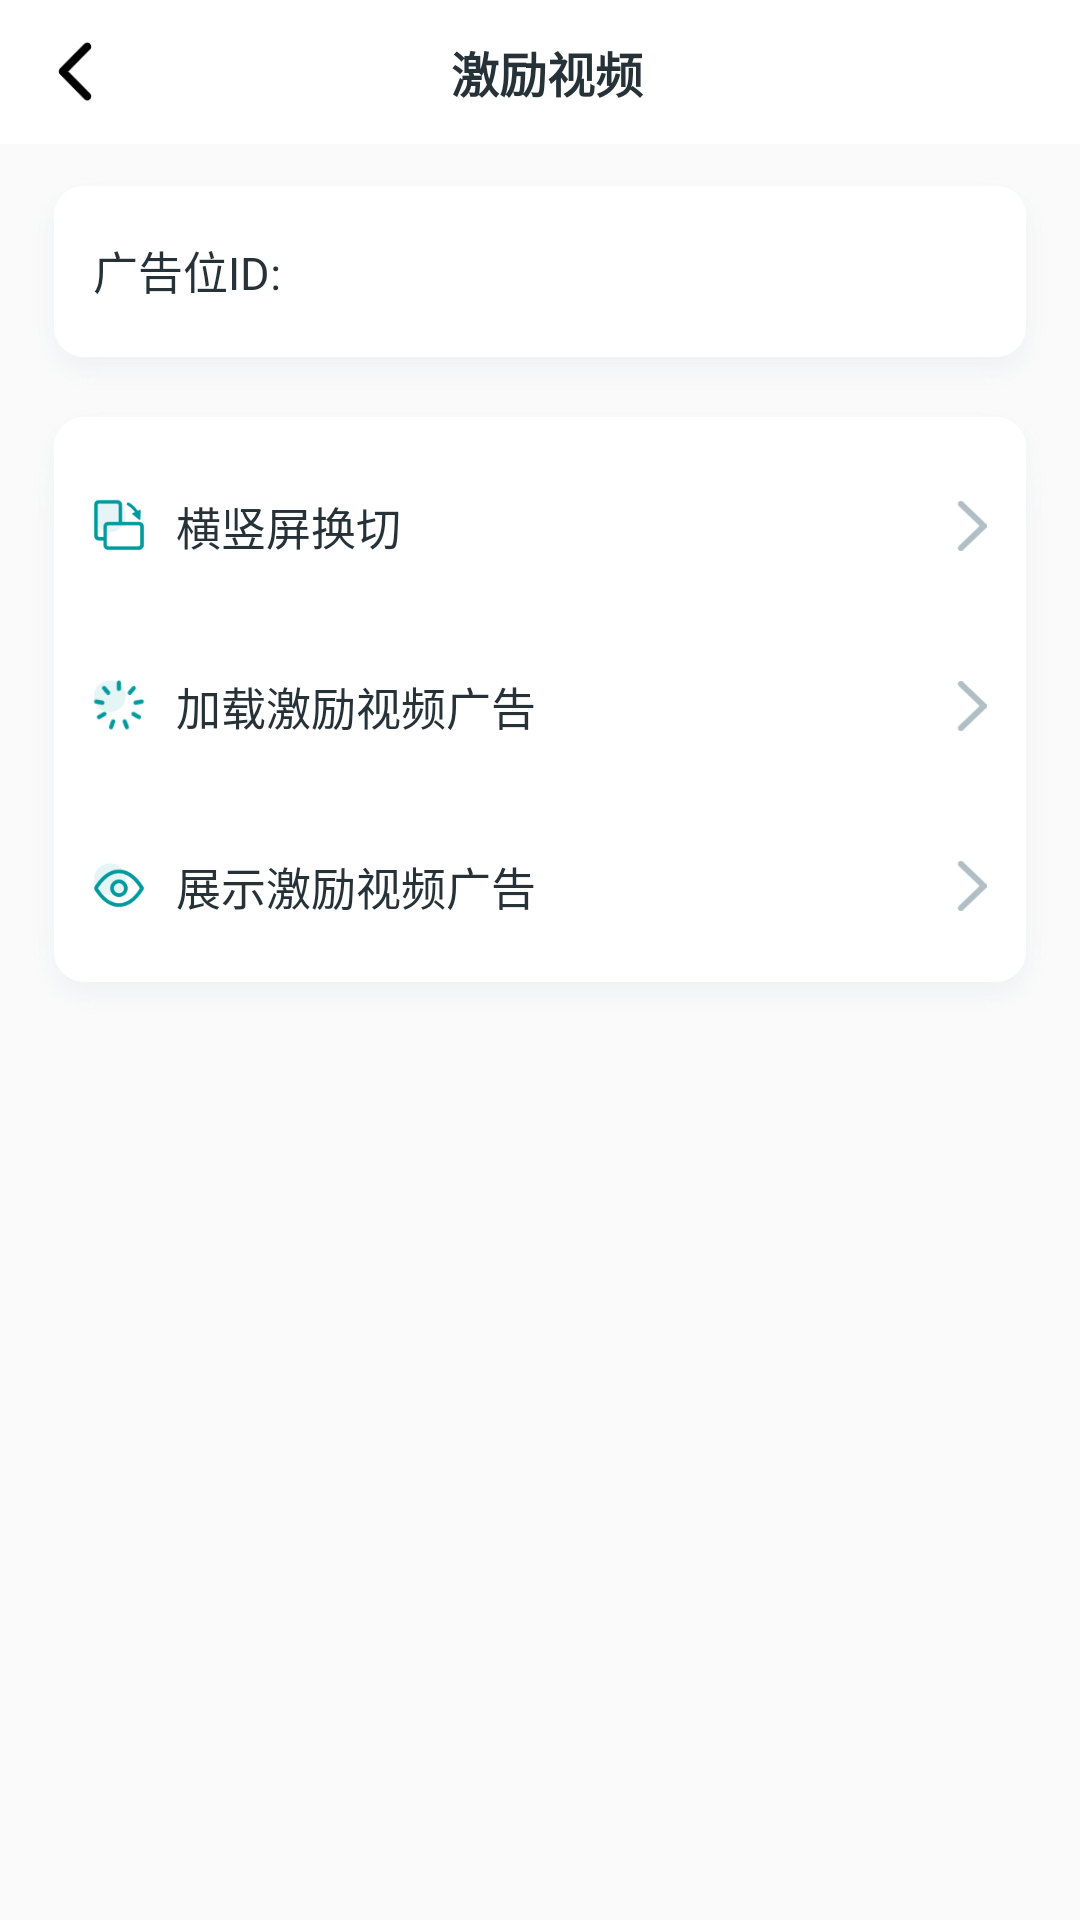

Point at icon controls on the screen. Image size 1080w x 1920h, points as (x=x, y=y).
back: (x=75, y=71)
